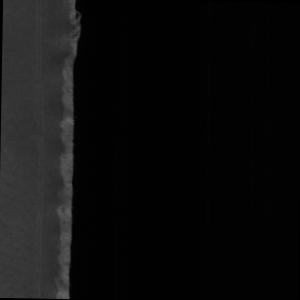Damage: (50, 1, 87, 300)
